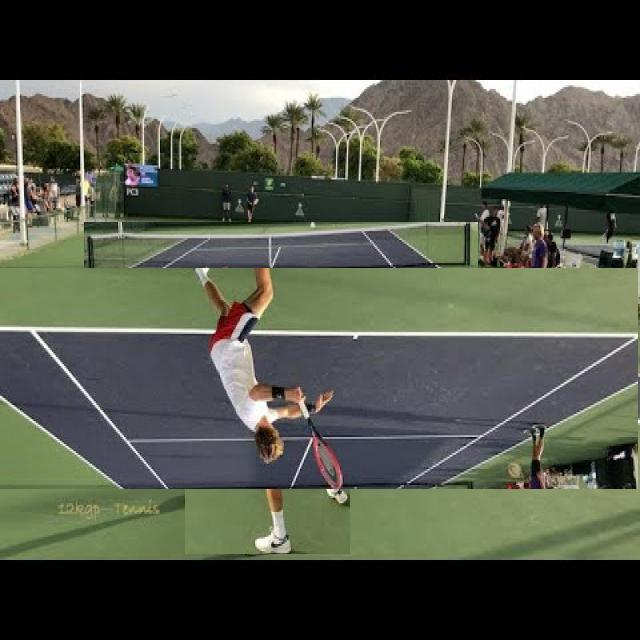court: (0, 268, 638, 489)
net: (84, 222, 478, 278)
player: (185, 258, 350, 554)
